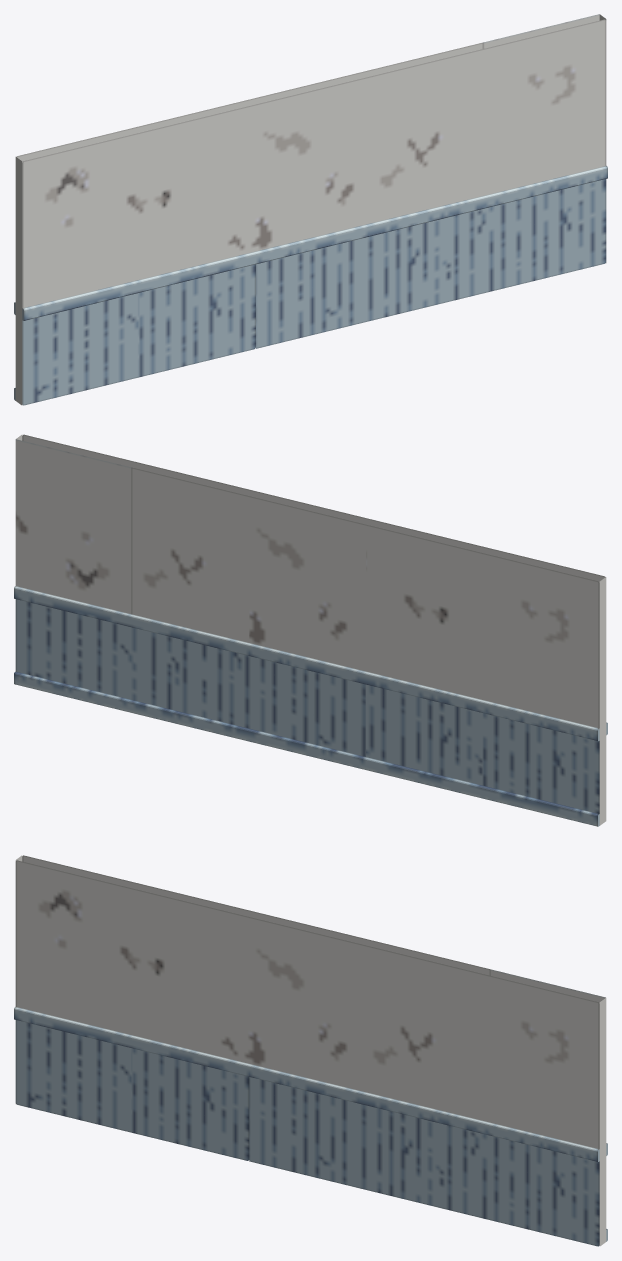
Rendered from Wall_TipoA.fbx.
3 views of the same model, one above another, from view 1: azimuth 30°, elevation 25°; view 2: azimuth 150°, elevation 25°; view 3: azimuth 330°, elevation 25° (orthographic).
Parts seen in each view (by area): view 1: Cube.014, Cube.083; view 2: Cube.014, Cube.081, Cube.086; view 3: Cube.014, Cube.083.
Part boxes in pixels (x1,y1,x2,y2): Cube.014: (15, 14, 606, 405); Cube.083: (22, 166, 607, 320); Cube.014: (15, 434, 606, 825); Cube.081: (14, 586, 599, 741); Cube.086: (14, 671, 599, 826); Cube.014: (15, 855, 606, 1246); Cube.083: (14, 1007, 599, 1161).
Bounding box in the file's own units: 1000 × 400 × 29.88.
